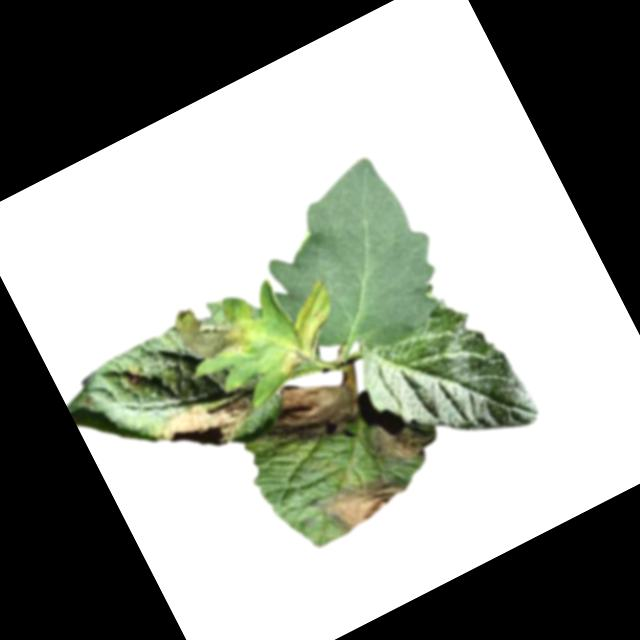Late_blight: (249, 357, 371, 464), (154, 376, 273, 473), (169, 283, 265, 377), (308, 459, 414, 542), (259, 298, 342, 379), (362, 408, 434, 475), (121, 363, 148, 389)
healthy: (237, 146, 466, 382), (345, 280, 546, 483)
